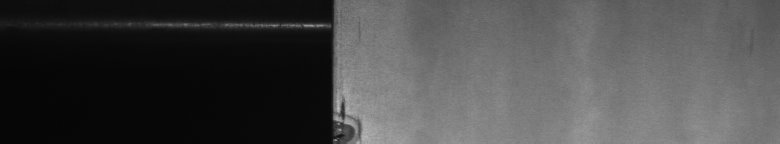hb: (340, 87, 368, 136)
